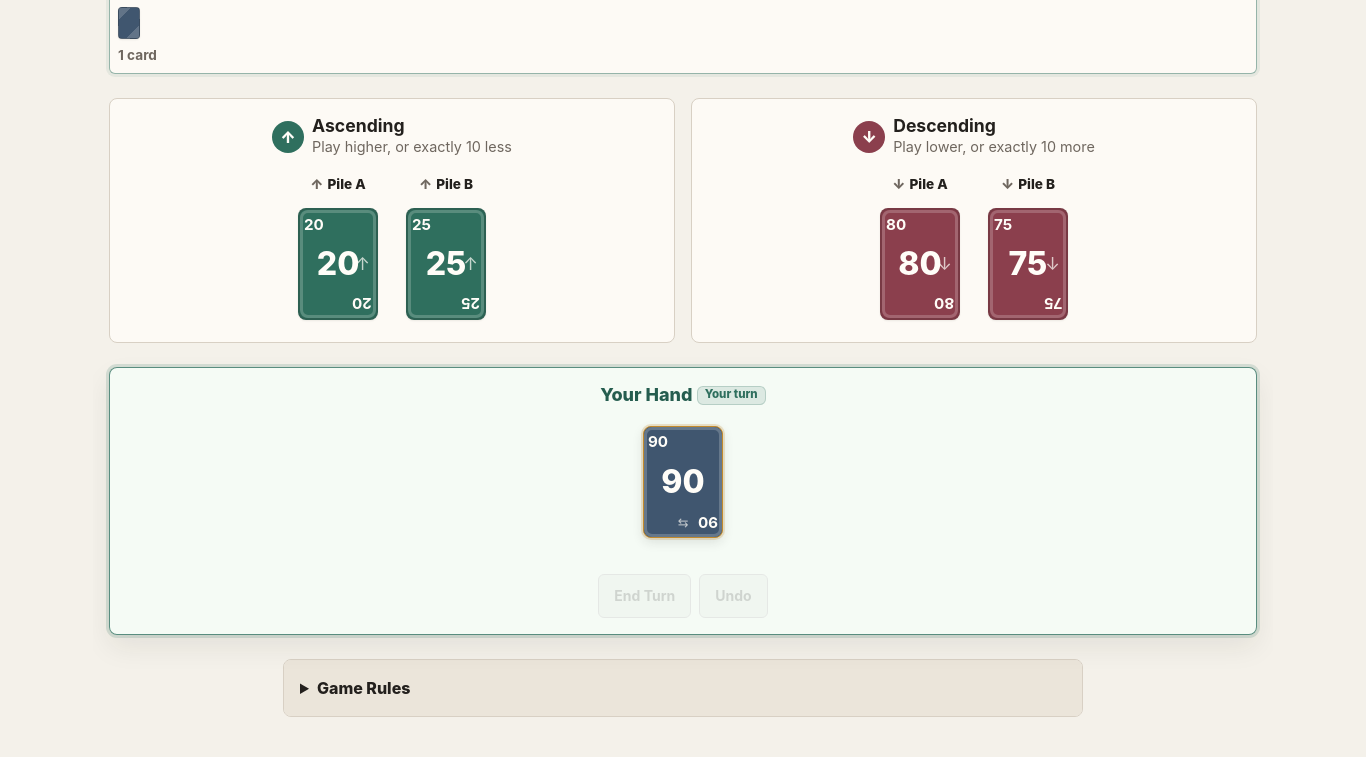
Test: board status rendering › shows a small error and does not play when a selected card is tapped onto an invalid pile
(page scrolled)
Click the button named "hand card 90".
click(683, 482)  # box [643,426,723,538]
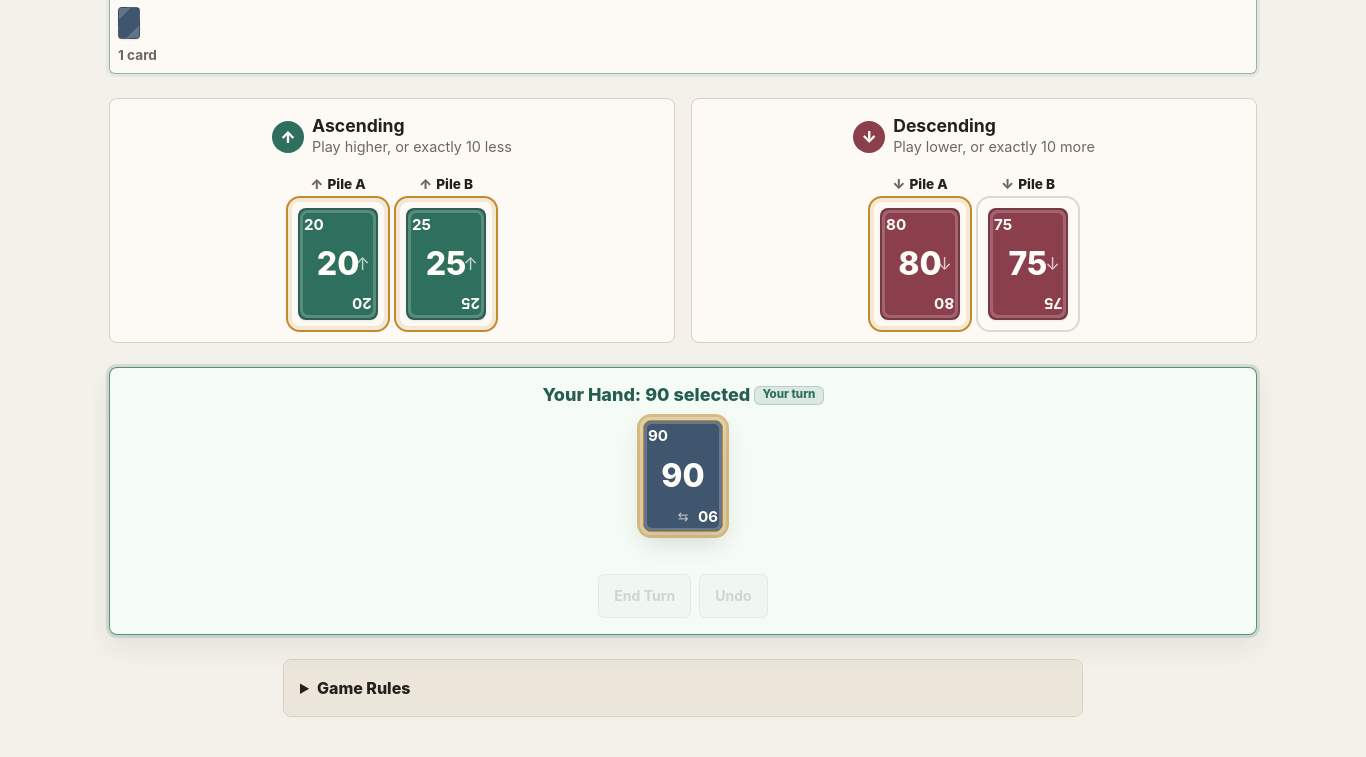
Click the button named "descending pile b, current value 75".
click(1028, 264)  # box [982,202,1074,326]
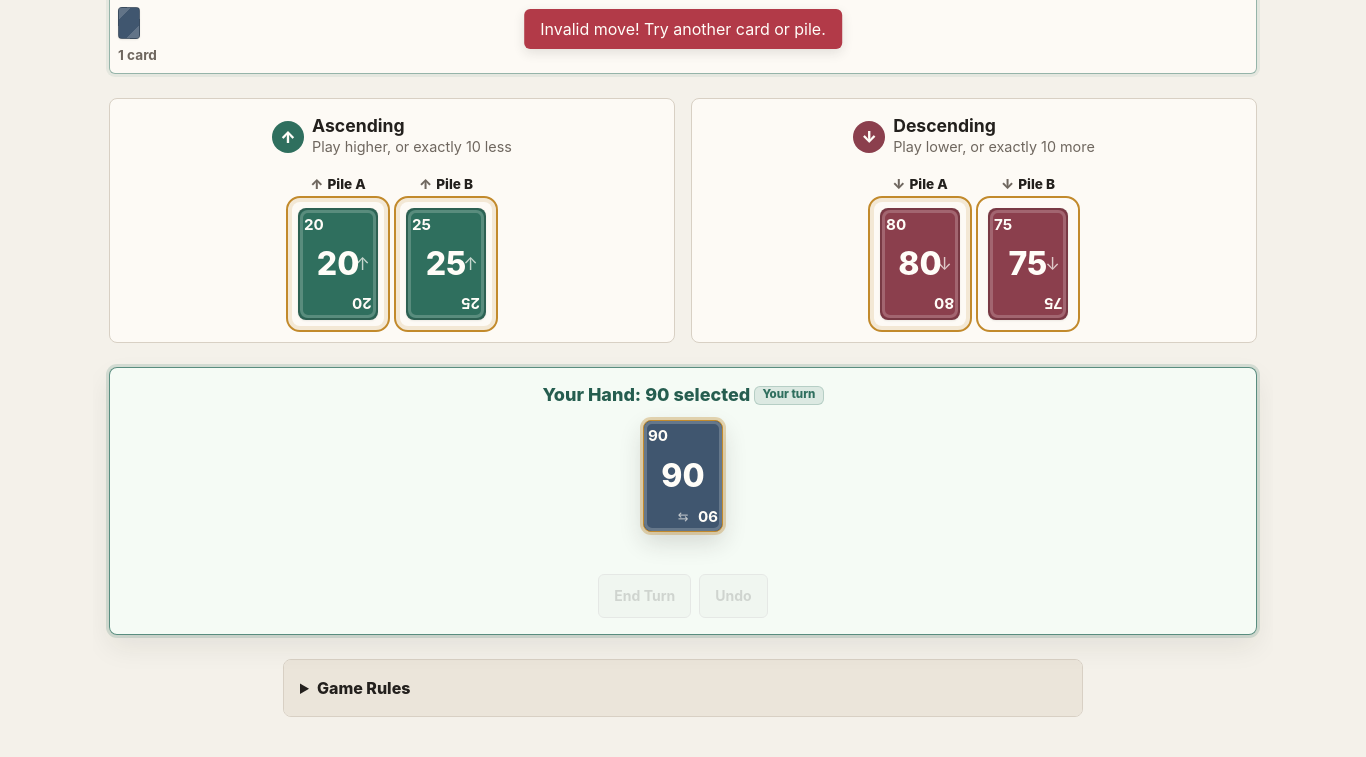
Check: the text "Invalid move! Try another card or pile." is shown, box [524,9,842,49]
